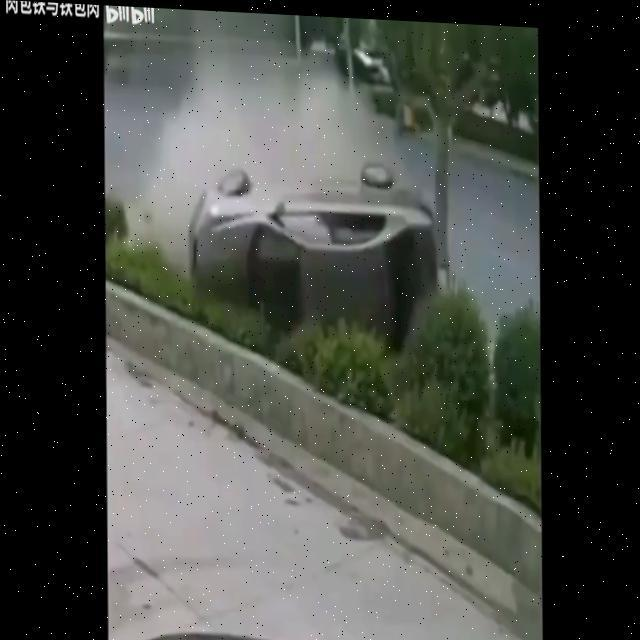single accident: (193, 137, 448, 377)
